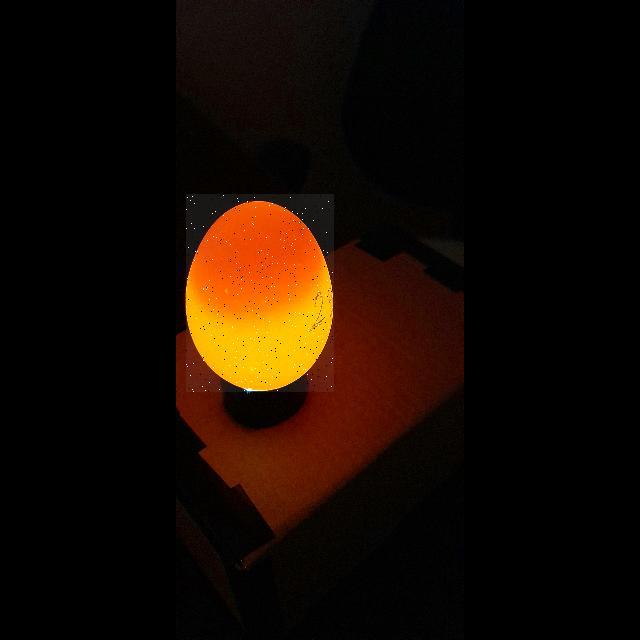A - Good: (186, 194, 334, 392)
